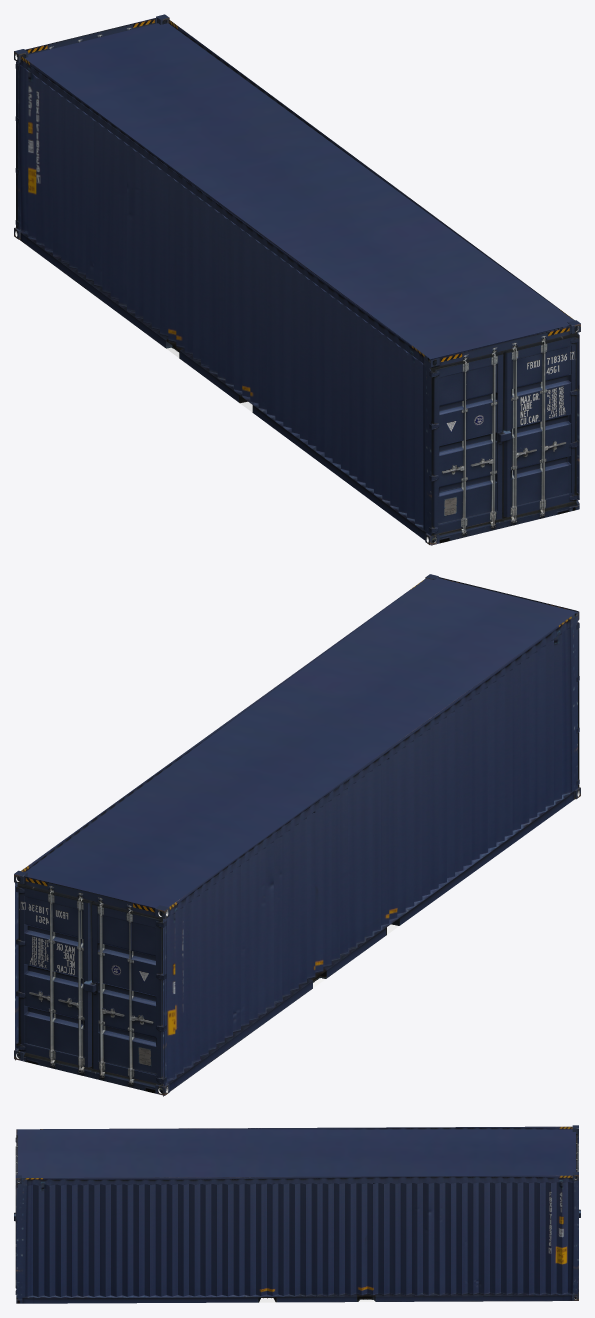
The model's file is container.fbx.
3 renders of one model, top to bottom at view 1: azimuth 30°, elevation 25°; view 2: azimuth 150°, elevation 25°; view 3: azimuth 270°, elevation 25°, orthographic. The views are drawn at different scales.
Parts seen in each view (by area): view 1: Plane; view 2: Plane; view 3: Plane.
Boxes of the visible parts, left/top/right/bottom form: Plane: left=14, top=14, right=580, bottom=545; Plane: left=14, top=574, right=580, bottom=1096; Plane: left=14, top=1125, right=580, bottom=1303.
Size of the model in its own units: 2.77 by 3.34 by 13.33.
Materials: 2 (2 with a texture image).
